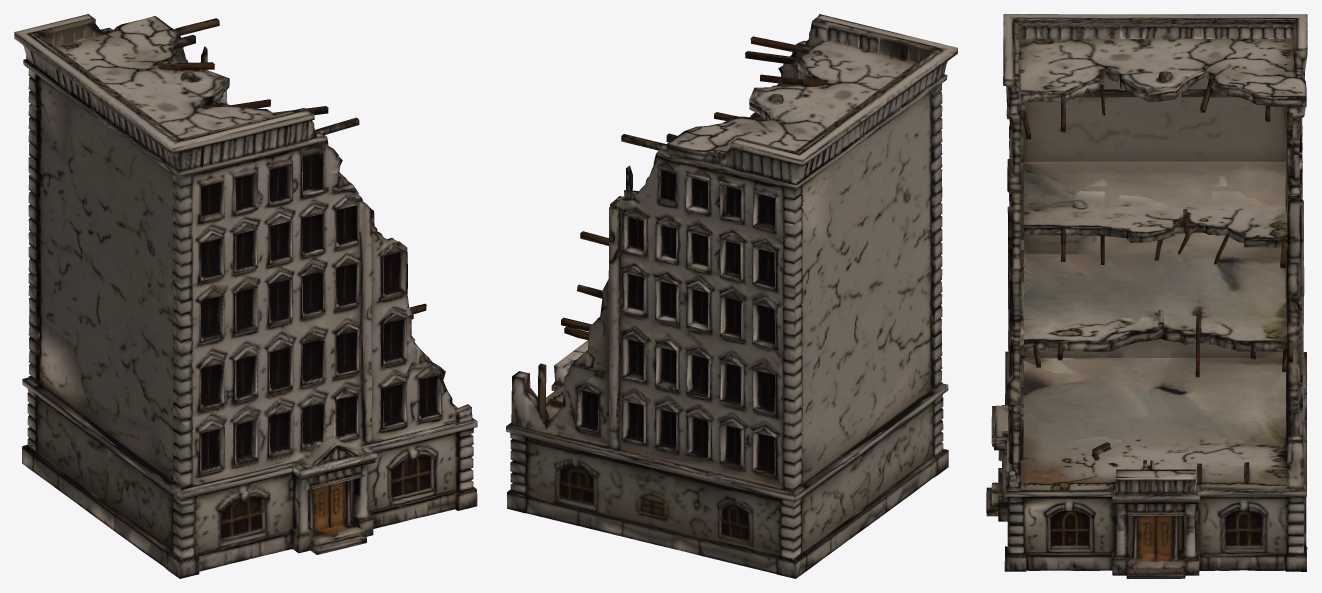
File: ruined+building+3d+model.fbx
The picture shows the model from 3 angles, left to right: view 1: azimuth 30°, elevation 25°; view 2: azimuth 150°, elevation 25°; view 3: azimuth 270°, elevation 25°; orthographic projection. The views are drawn at different scales.
Visible parts, largest first — view 1: tripo_node_e8cdd36d; view 2: tripo_node_e8cdd36d; view 3: tripo_node_e8cdd36d.
Part boxes in pixels (x1,y1,x2,y2): tripo_node_e8cdd36d: (14, 14, 477, 578); tripo_node_e8cdd36d: (506, 14, 957, 578); tripo_node_e8cdd36d: (986, 14, 1307, 578).
Bounding box in the file's own units: 0.7731 × 1 × 0.7001.
Materials: 1 (1 with a texture image).
